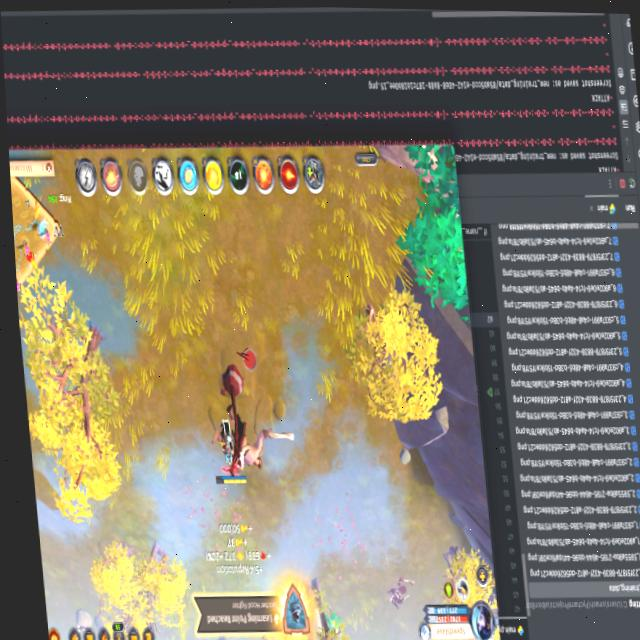ore: (319, 607, 347, 633), (208, 631, 242, 640)
red: (204, 415, 250, 489)
wisp caged: (367, 141, 469, 322)
